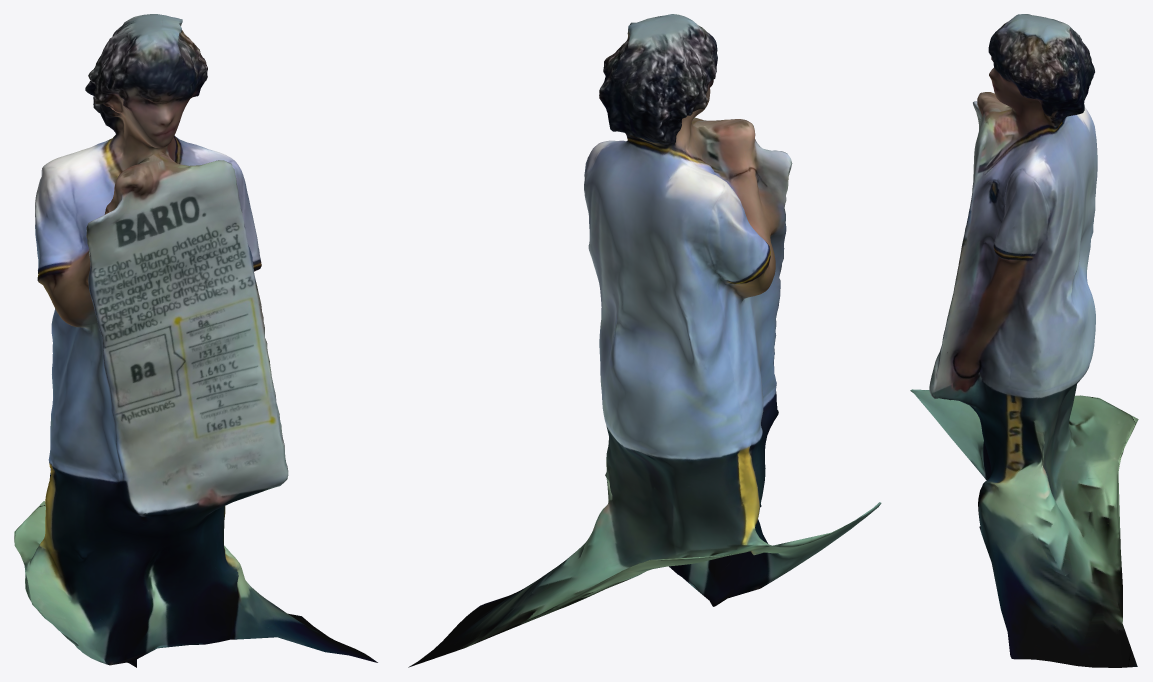
3 views of the same model, side by side, from view 1: azimuth 30°, elevation 25°; view 2: azimuth 150°, elevation 25°; view 3: azimuth 270°, elevation 25° (orthographic). The views are drawn at different scales.
Visible parts, largest first — view 1: 3DModel; view 2: 3DModel; view 3: 3DModel.
Boxes of the visible parts, x1,y1,x2,y2 form: 3DModel: (14, 14, 377, 667); 3DModel: (408, 14, 881, 667); 3DModel: (910, 14, 1138, 667).
Bounding box in the file's own units: 0.7569 × 1.38 × 0.5048.
Materials: 1 (1 with a texture image).
